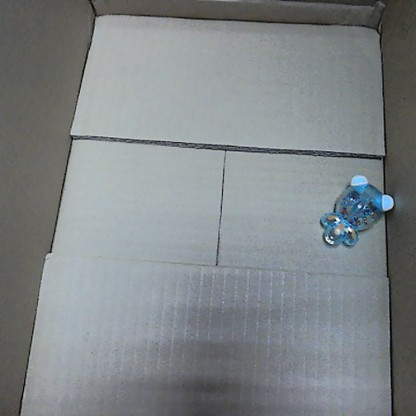bluefish: (316, 171, 396, 250)
